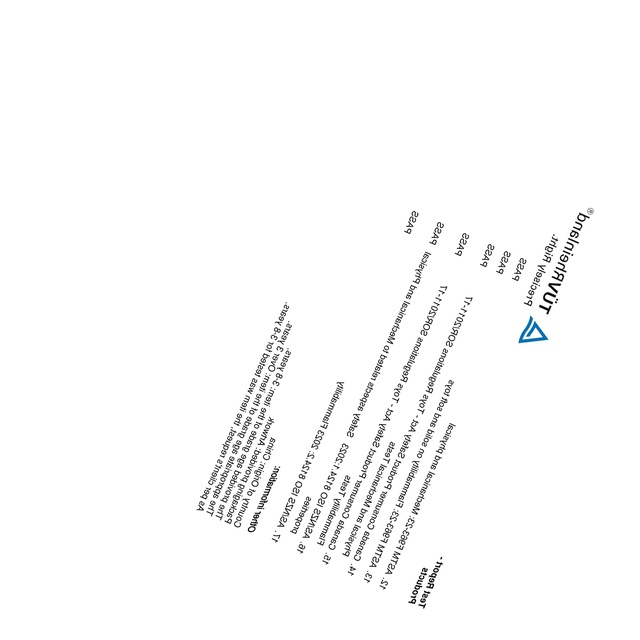tuv_rheinland: (516, 202, 596, 348)
